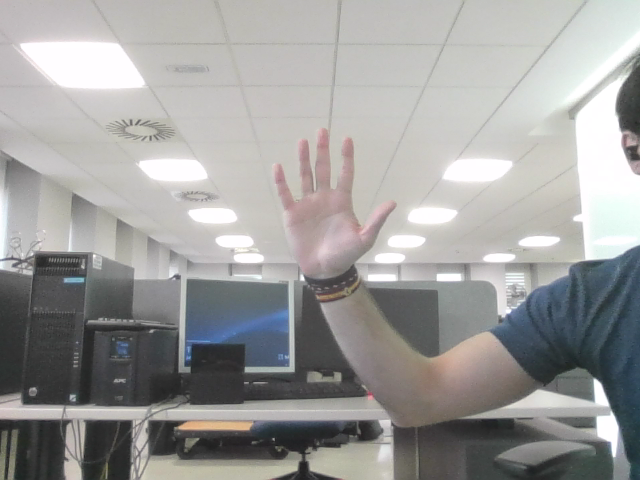Mano Abierta: (282, 140, 383, 252)
